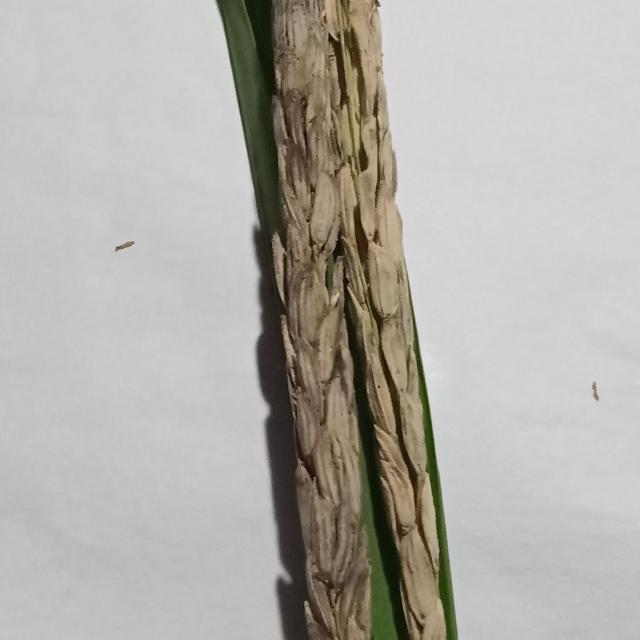Neck_Blast: (319, 1, 454, 638), (270, 0, 386, 640)
